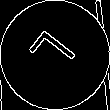L_SE: (26, 28, 84, 82)
